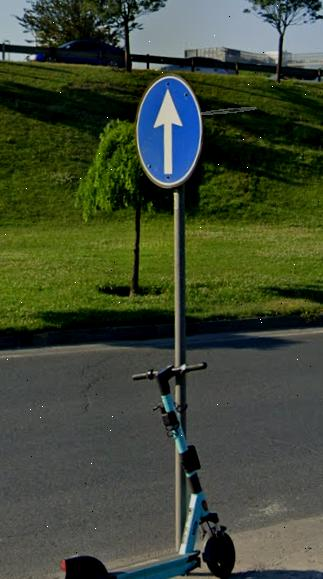forward: (130, 80, 206, 185)
